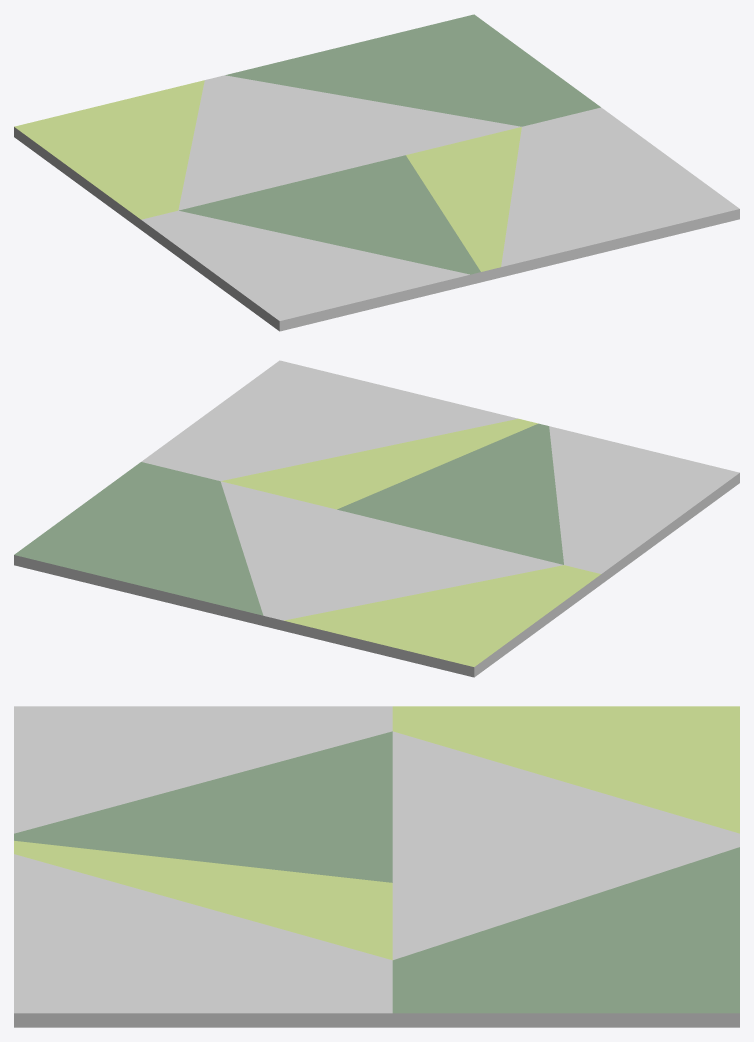
Rendered from AirportFloorPattern1.fbx.
3 views of the same model, one above another, from view 1: azimuth 30°, elevation 25°; view 2: azimuth 150°, elevation 25°; view 3: azimuth 270°, elevation 25° (orthographic). The views are drawn at different scales.
Parts seen in each view (by area): view 1: FloorOne; view 2: FloorOne; view 3: FloorOne.
Part boxes in pixels (x1=…): FloorOne: x1=14, y1=14, x2=739, y2=331; FloorOne: x1=14, y1=360, x2=739, y2=677; FloorOne: x1=14, y1=706, x2=739, y2=1027.
Size of the model in its own units: 71.9 by 1.55 by 71.9.
